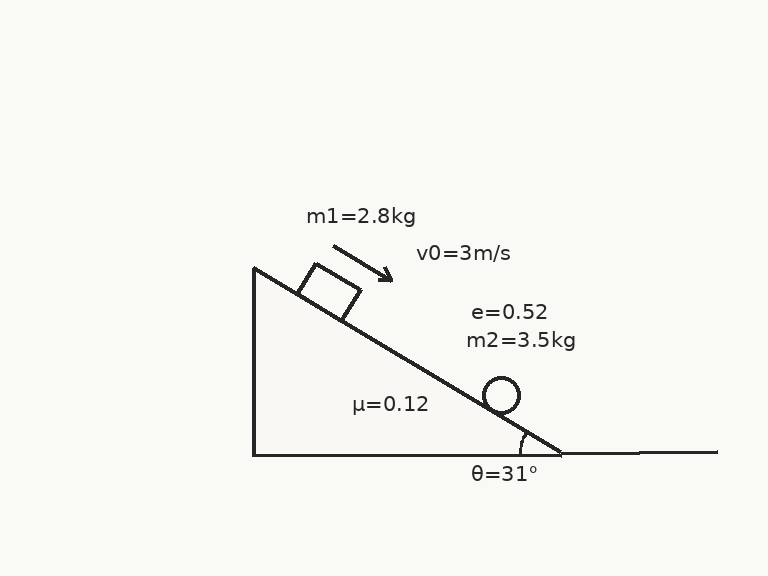ball: (480, 374, 522, 416)
block: (295, 261, 362, 323)
ramp: (251, 267, 562, 455)
